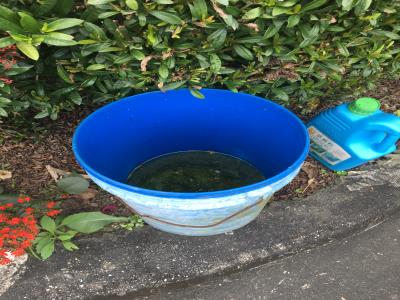bottle: (302, 94, 399, 179)
bucket: (68, 84, 312, 240)
